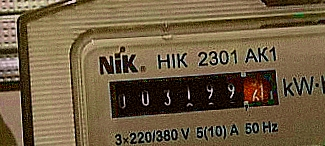0: (138, 88, 151, 108), (116, 91, 126, 109)
1: (182, 83, 192, 101)
3: (160, 87, 172, 107)
6: (249, 87, 259, 101)
9: (203, 80, 214, 101), (225, 81, 236, 100)
screen: (100, 60, 285, 125)
